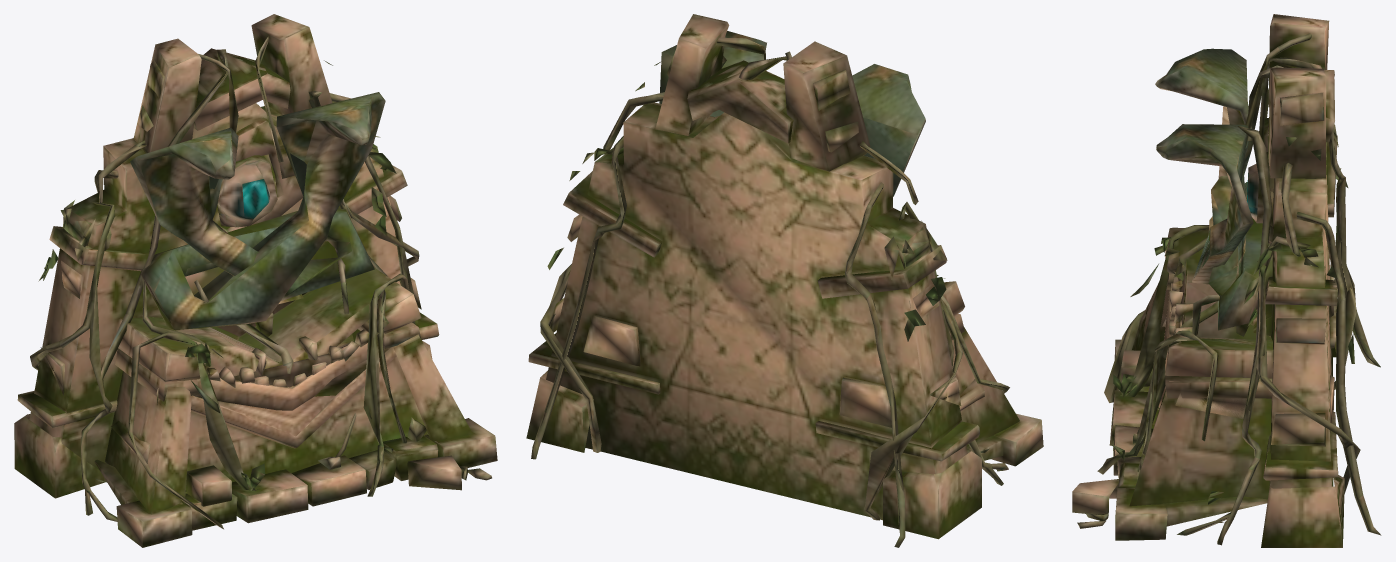
Rendered from meshy-temple-lite.glb.
3 renders of one model, left to right at view 1: azimuth 30°, elevation 25°; view 2: azimuth 150°, elevation 25°; view 3: azimuth 270°, elevation 25°, orthographic. The views are drawn at different scales.
Size of the model in its own units: 1 by 1 by 0.6867.
1 material, 1 textured.
